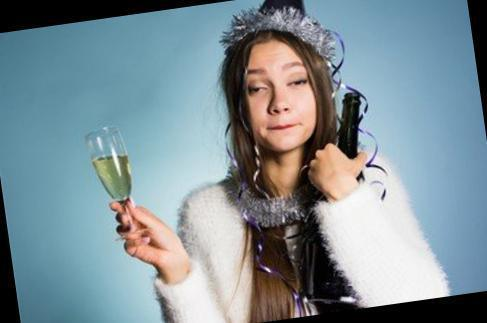Drunk: (245, 45, 316, 149)
